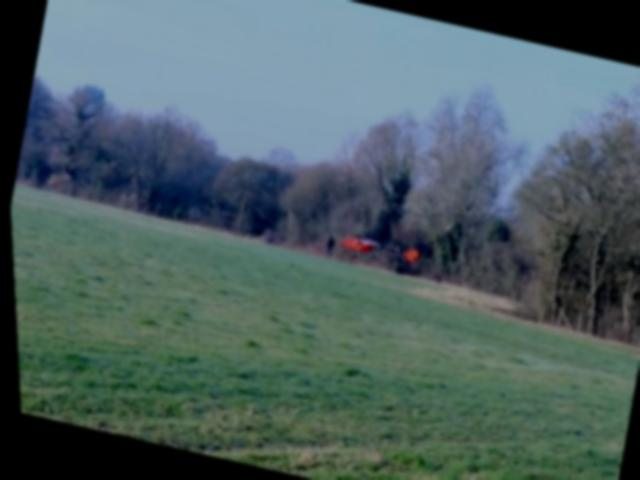uav: (333, 224, 424, 270)
